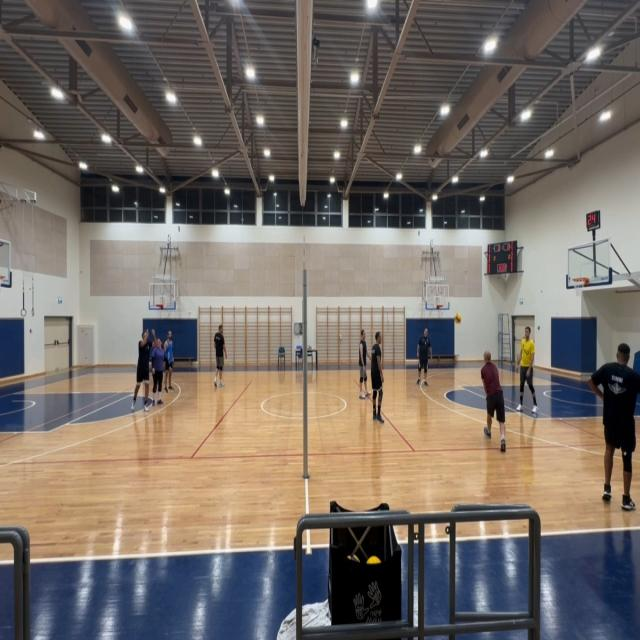volleyball: (454, 312, 462, 325)
